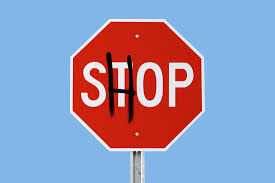stop sign: (71, 19, 205, 150)
